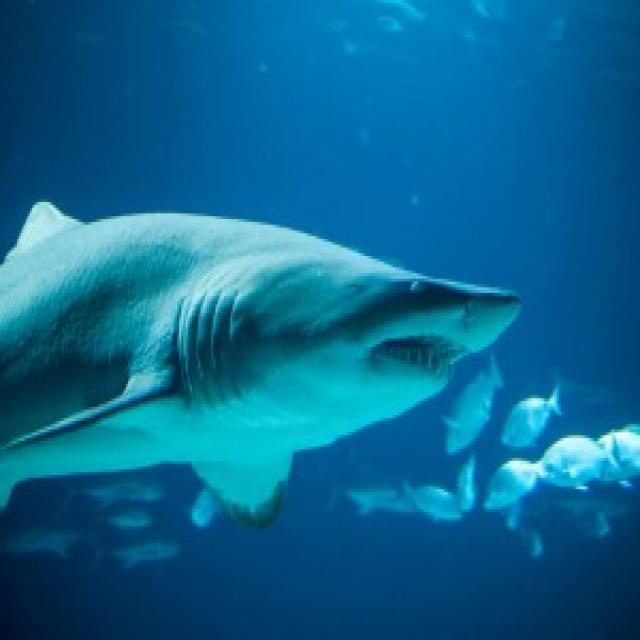Shark: (1, 171, 518, 544)
